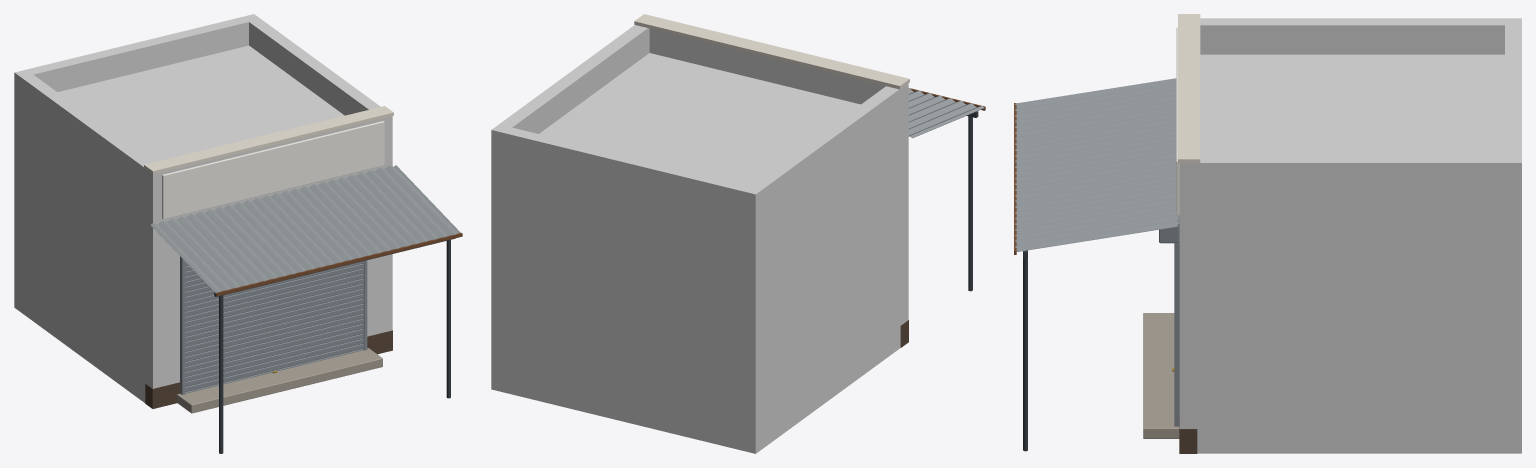
Rendered from shop_closed.glb.
3 renders of one model, left to right at view 1: azimuth 30°, elevation 25°; view 2: azimuth 150°, elevation 25°; view 3: azimuth 270°, elevation 25°, orthographic. The views are drawn at different scales.
Visible parts, largest first — view 1: shop_closed; view 2: shop_closed; view 3: shop_closed.
Boxes of the visible parts, left/top/right/bottom form: shop_closed: left=14, top=14, right=462, bottom=453; shop_closed: left=491, top=14, right=985, bottom=453; shop_closed: left=1014, top=14, right=1521, bottom=453.
Bounding box in the file's own units: 4.1 × 3.8 × 5.94.
